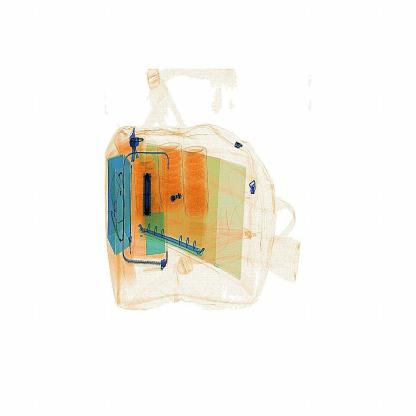scissors: (135, 166, 160, 223)
